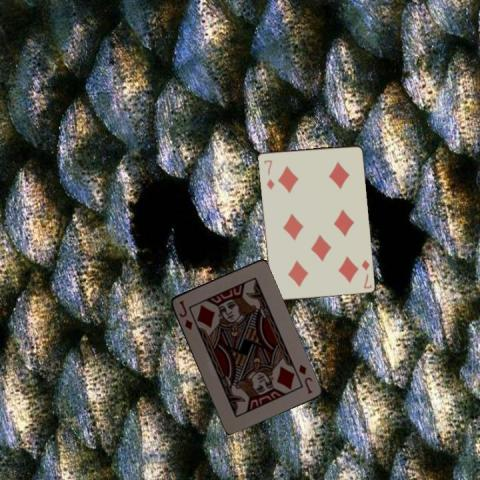7d: (261, 156, 275, 190), (359, 257, 372, 290)
Jd: (296, 362, 314, 396), (176, 298, 194, 331)
